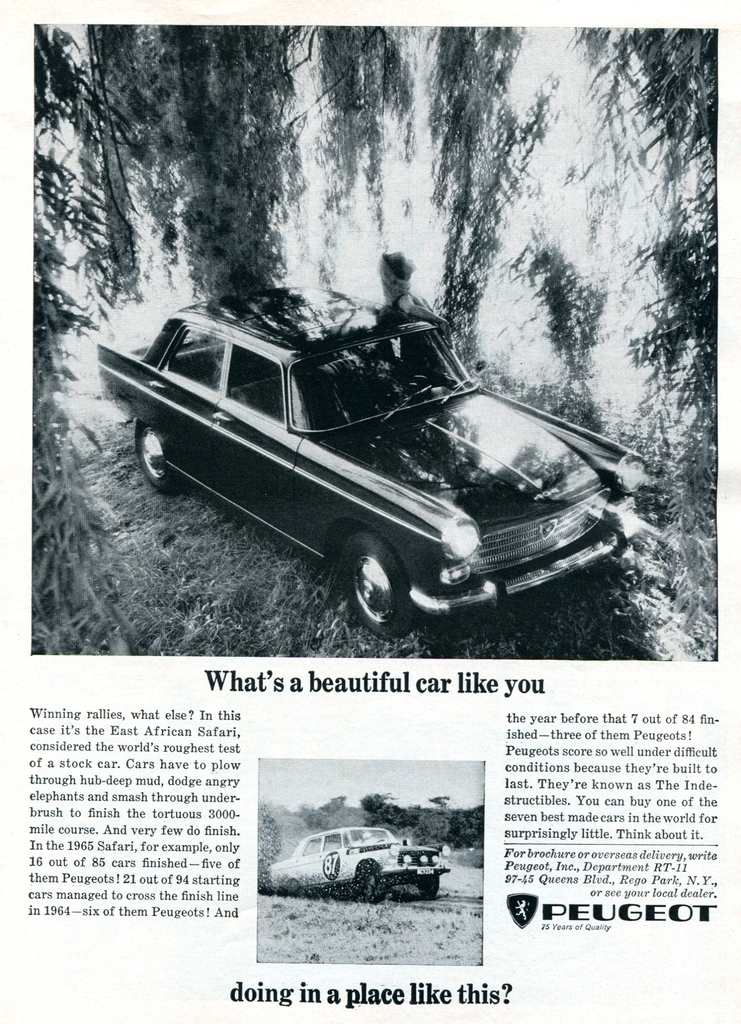Car: (85, 311, 648, 638), (256, 821, 456, 895)
